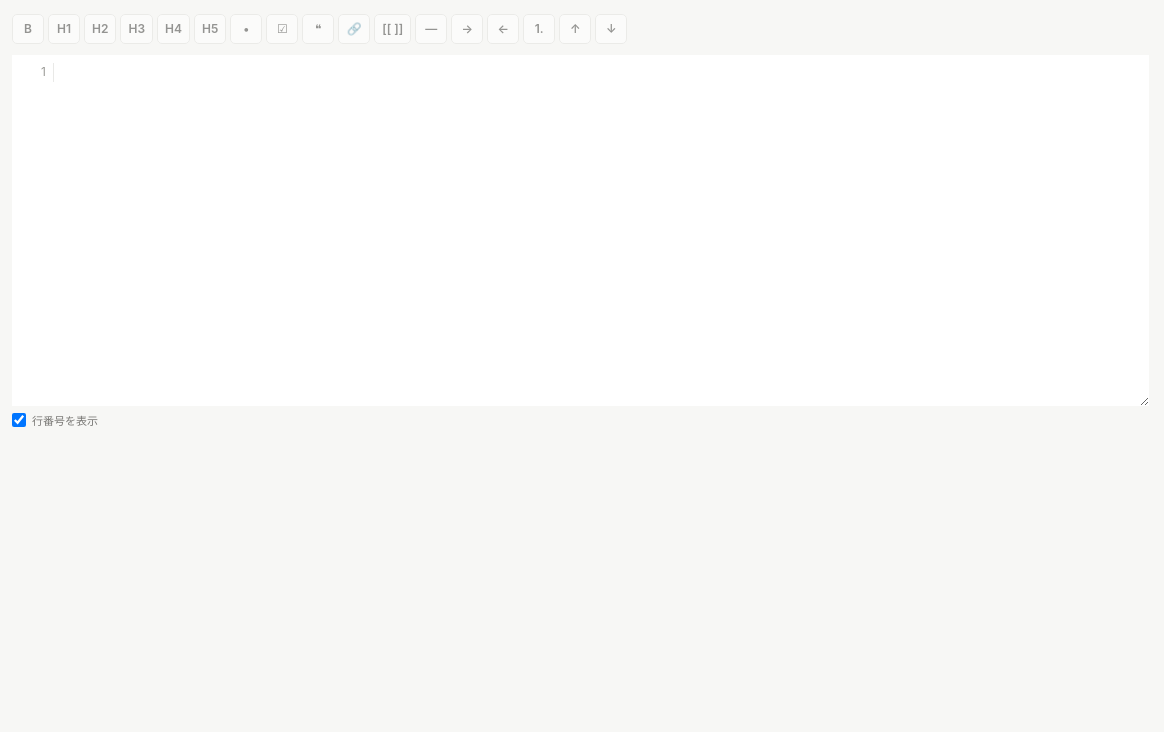
Test: NoteMarkdownEditor and shared Note UI helpers › does not search during IME composition and reports search authentication errors separately
This screenshot has width=1164, height=732.
Type "[ [かな" into the text box named "Markdown本文" at coordinates (602, 230), box [54,55,1149,406]
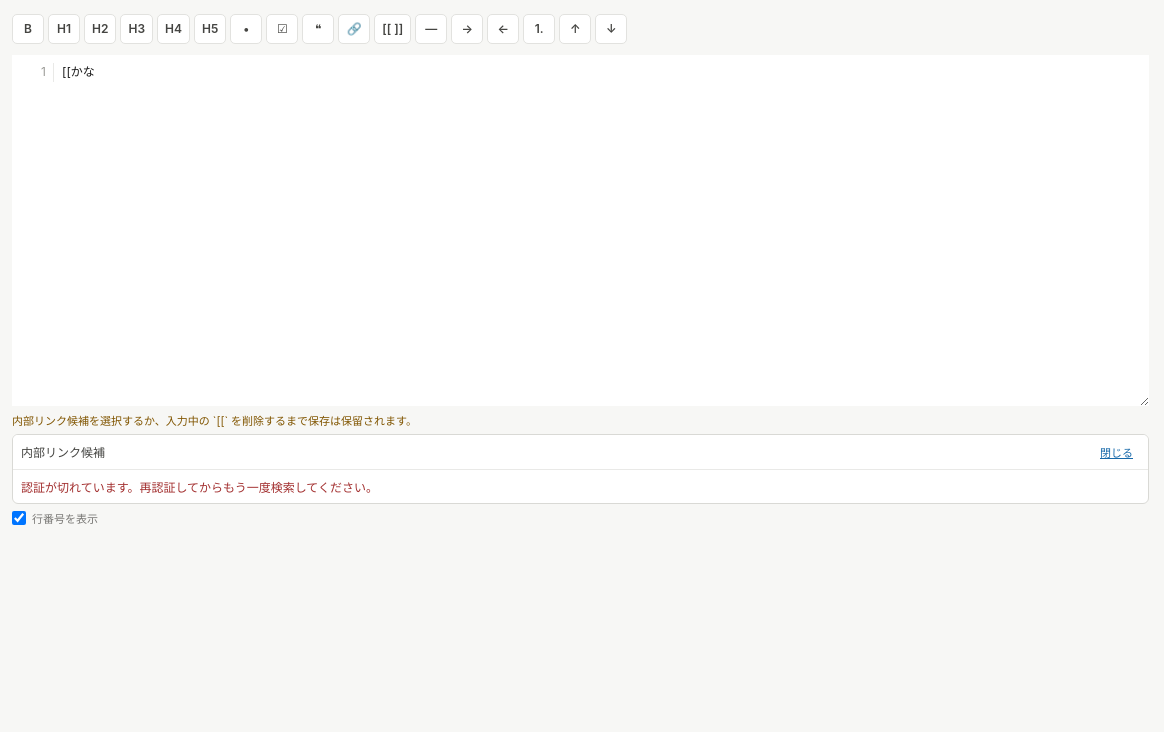
Result: the message "認証が切れています。再認証してからもう一度検索してください。" is shown at [21,480,378,495]
